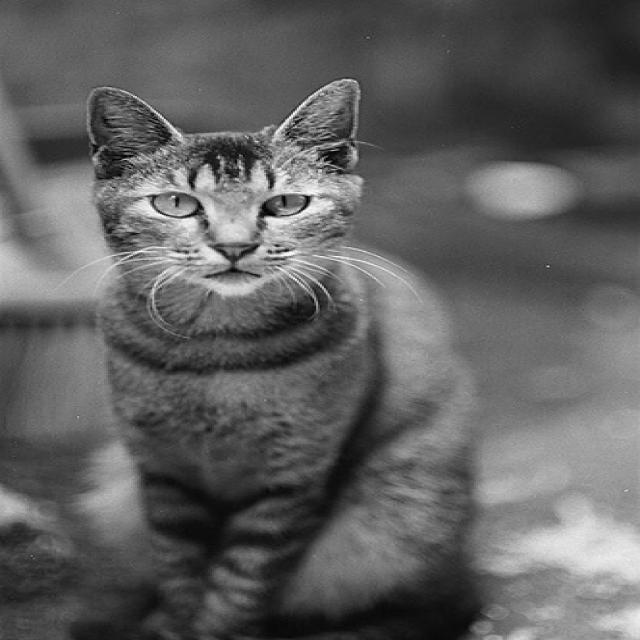cat: (77, 73, 480, 639)
